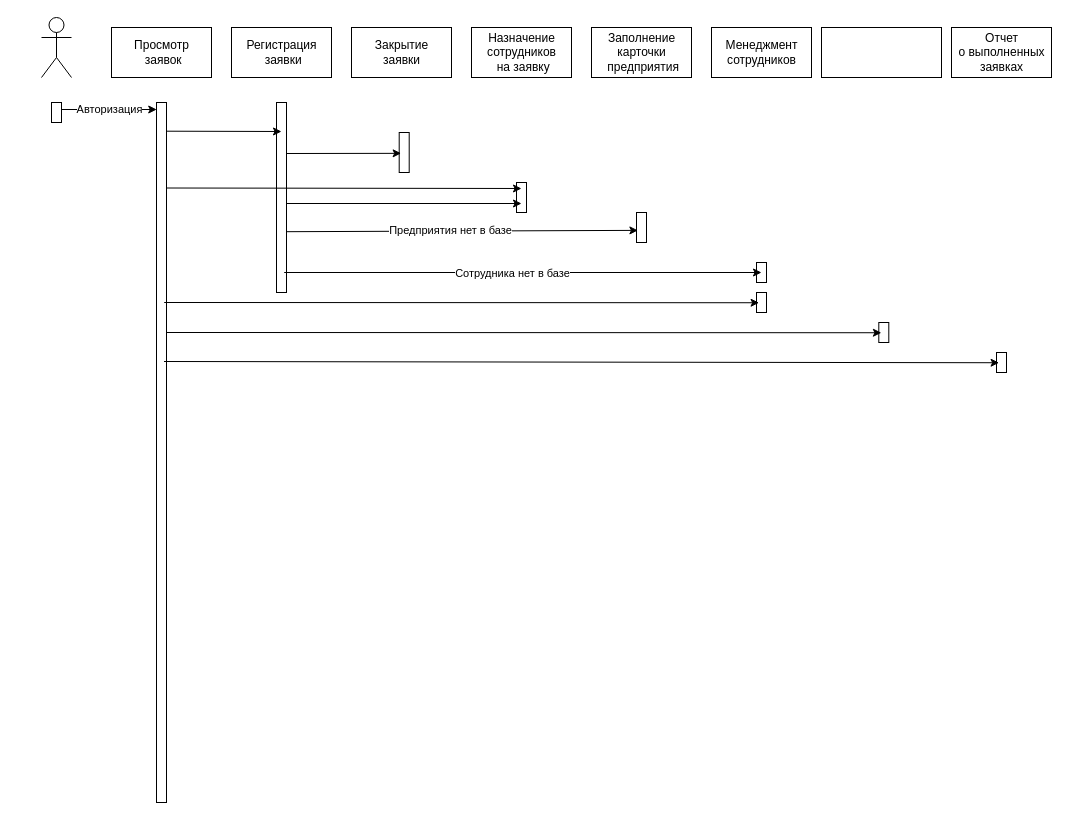
Image size: 1069x820. Some labels were removed from this diagram. Here are the shapes that lost their labels. From the top down, the centre of each, then its label:
At (56,47): "Пользователь".
At (881,52): "Выставить счета для выполненных заявок".
